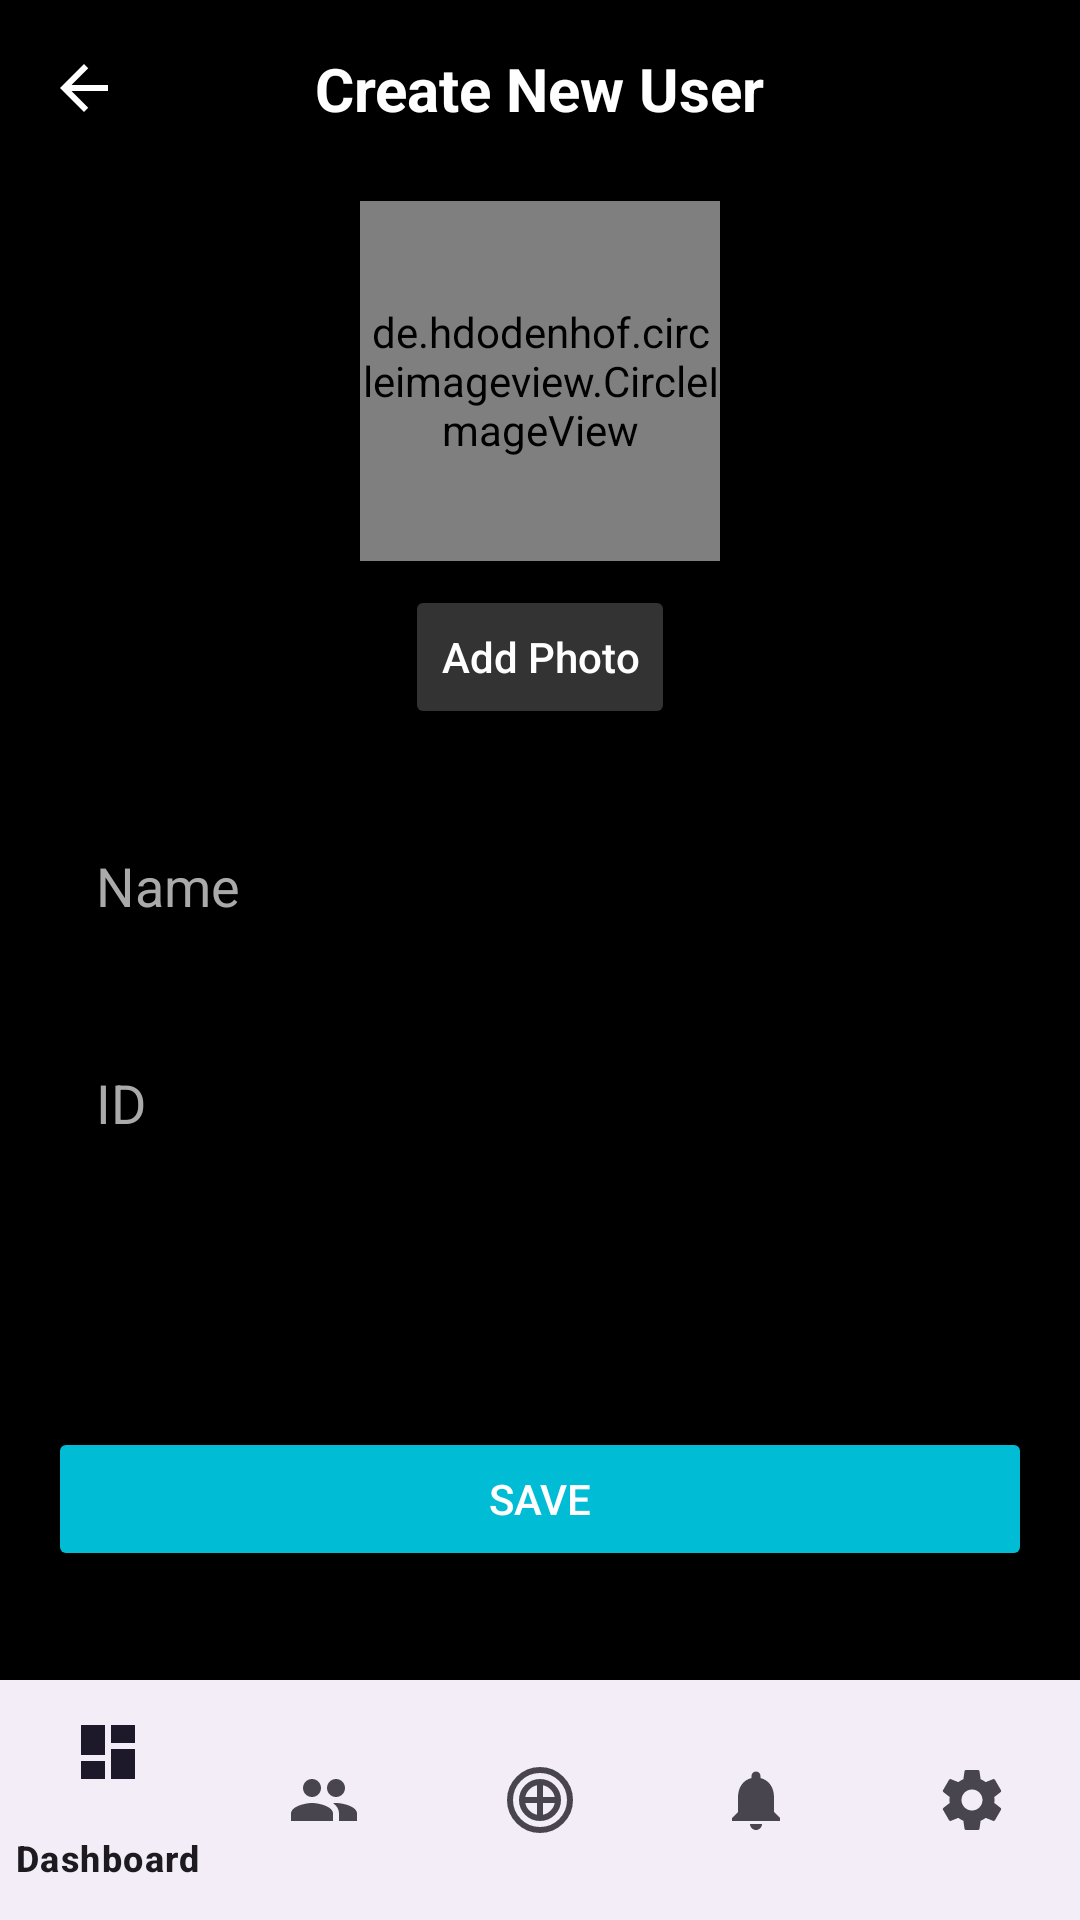

Named icons in this screenshot (1080px x 1920px) and their bounding boxes, (x1, y1, x2, y2):
arrow back: (60, 64, 108, 112)
